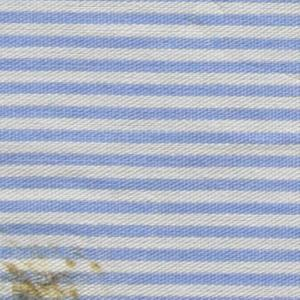Oil Stain: (1, 238, 105, 300)
Wrinkle: (182, 15, 300, 83)
